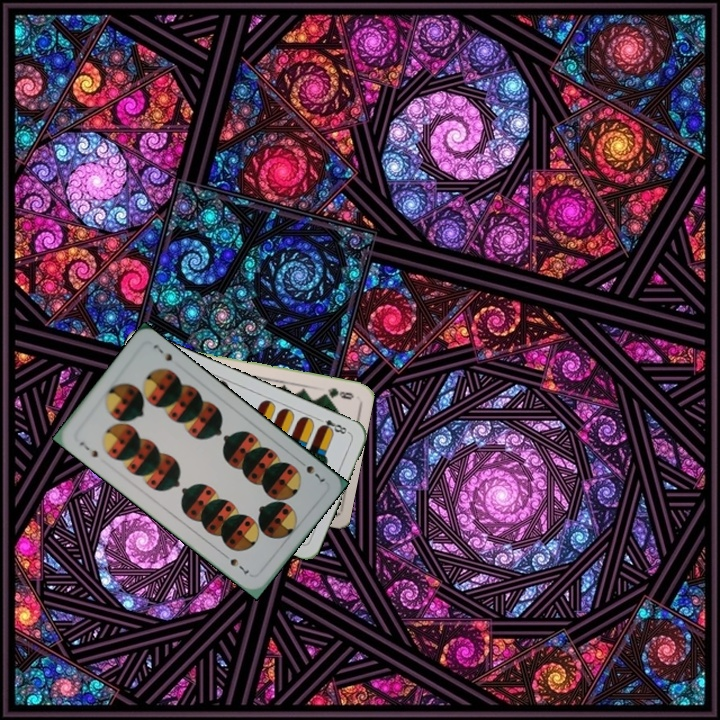E8: (313, 414, 352, 437)
G9: (317, 384, 356, 402)
S7: (294, 455, 327, 485), (75, 437, 102, 461)
